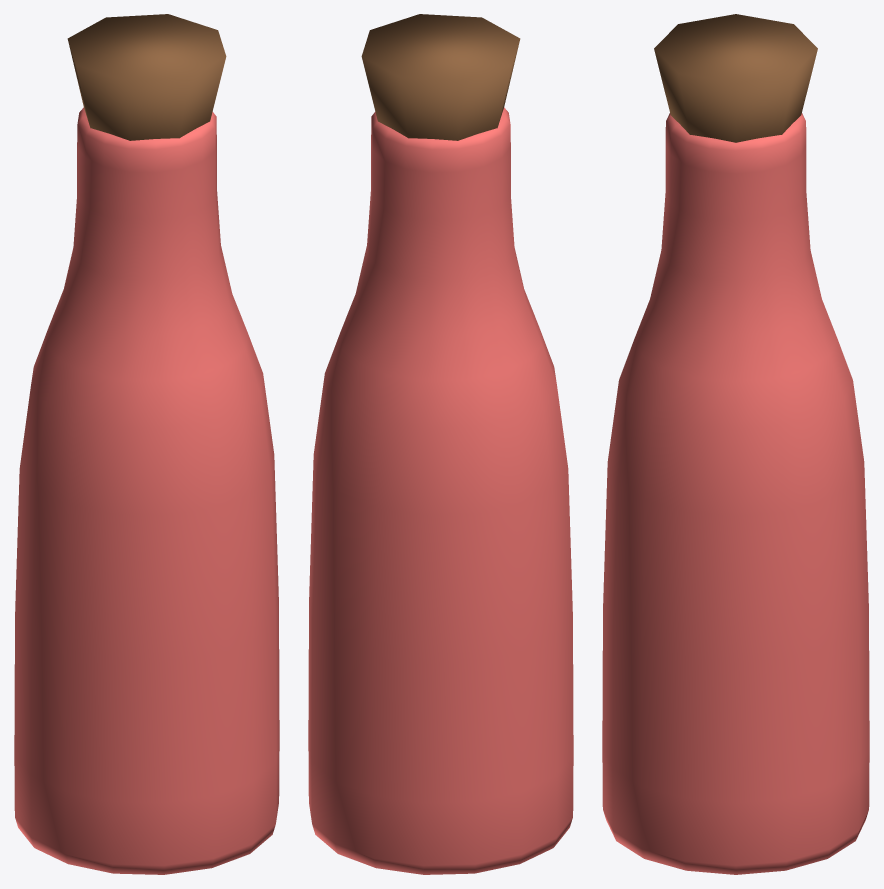
The model's file is bottle.fbx.
3 views of the same model, side by side, from view 1: azimuth 30°, elevation 25°; view 2: azimuth 150°, elevation 25°; view 3: azimuth 270°, elevation 25° (orthographic).
Parts seen in each view (by area): view 1: Bottle.002, Cork.002; view 2: Bottle.002, Cork.002; view 3: Bottle.002, Cork.002.
Boxes of the visible parts, x1=… form: Bottle.002: x1=14, y1=107, x2=279, y2=874; Cork.002: x1=67, y1=14, x2=226, y2=140; Bottle.002: x1=308, y1=107, x2=573, y2=874; Cork.002: x1=361, y1=14, x2=520, y2=140; Bottle.002: x1=602, y1=113, x2=869, y2=874; Cork.002: x1=654, y1=14, x2=817, y2=142.
Bounding box in the file's own units: 6.88 × 21.9 × 6.88.
